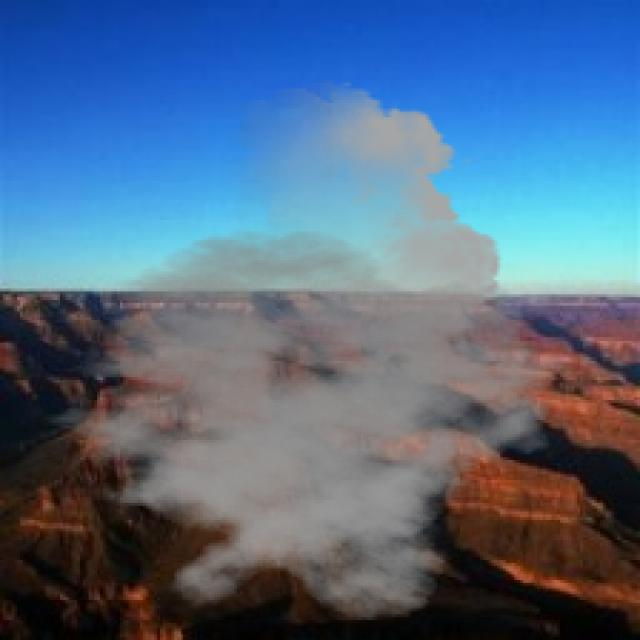smoke: (20, 80, 571, 623)
